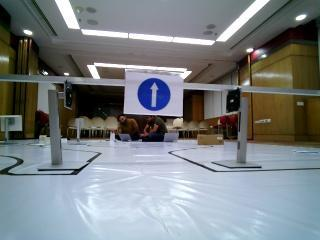straight: (122, 70, 182, 117)
